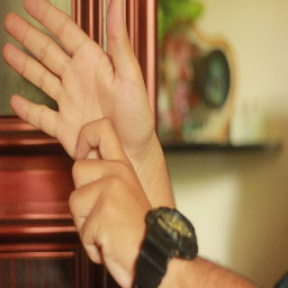R: (4, 1, 149, 246)
